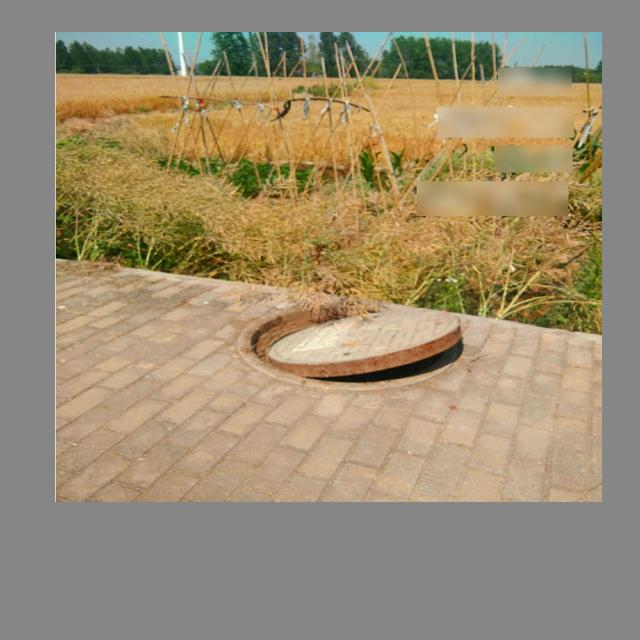uncovered: (239, 302, 463, 389)
